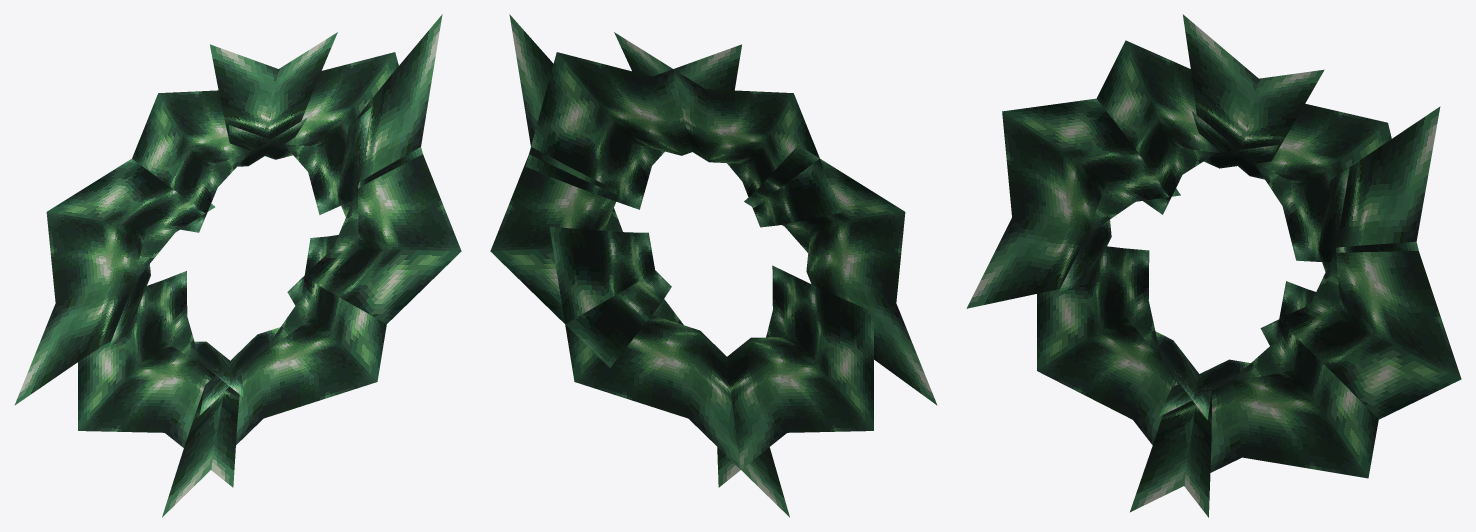
Rendered from tx_heyao_fire_g.obj.
The picture shows the model from 3 angles, left to right: view 1: azimuth 30°, elevation 25°; view 2: azimuth 150°, elevation 25°; view 3: azimuth 330°, elevation 25°; orthographic projection. The views are drawn at different scales.
Visible parts, largest first — view 1: Plane02; view 2: Plane02; view 3: Plane02.
Boxes of the visible parts, x1,y1,x2,y2 form: Plane02: [14, 14, 461, 517]; Plane02: [490, 14, 937, 517]; Plane02: [966, 14, 1461, 517].
Size of the model in its own units: 55.28 by 54.57 by 1.22.
1 material, 1 textured.
